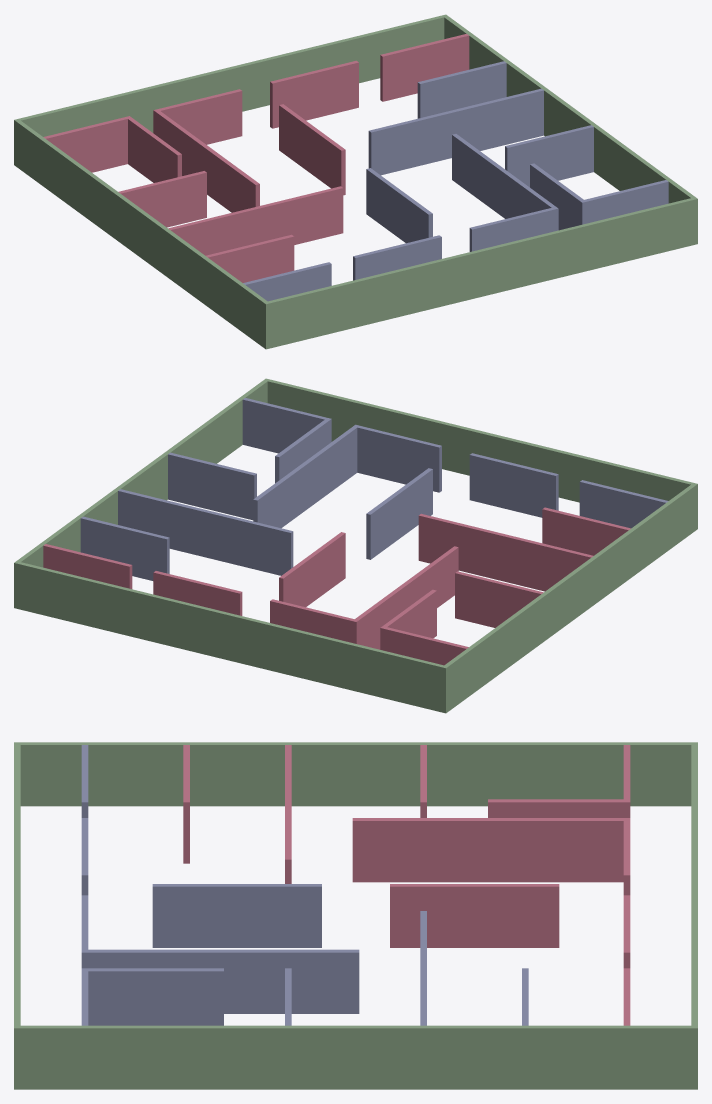
The model's file is wall_version2.fbx.
The picture shows the model from 3 angles, top to bottom: view 1: azimuth 30°, elevation 25°; view 2: azimuth 150°, elevation 25°; view 3: azimuth 270°, elevation 25°; orthographic projection. The views are drawn at different scales.
Parts seen in each view (by area): view 1: Map; view 2: Map; view 3: Map.
Part boxes in pixels (x1,y1,x2,y2): Map: (14,14,697,349); Map: (14,378,697,713); Map: (14,742,697,1089).
Size of the model in its own units: 1569 by 157 by 1585.
